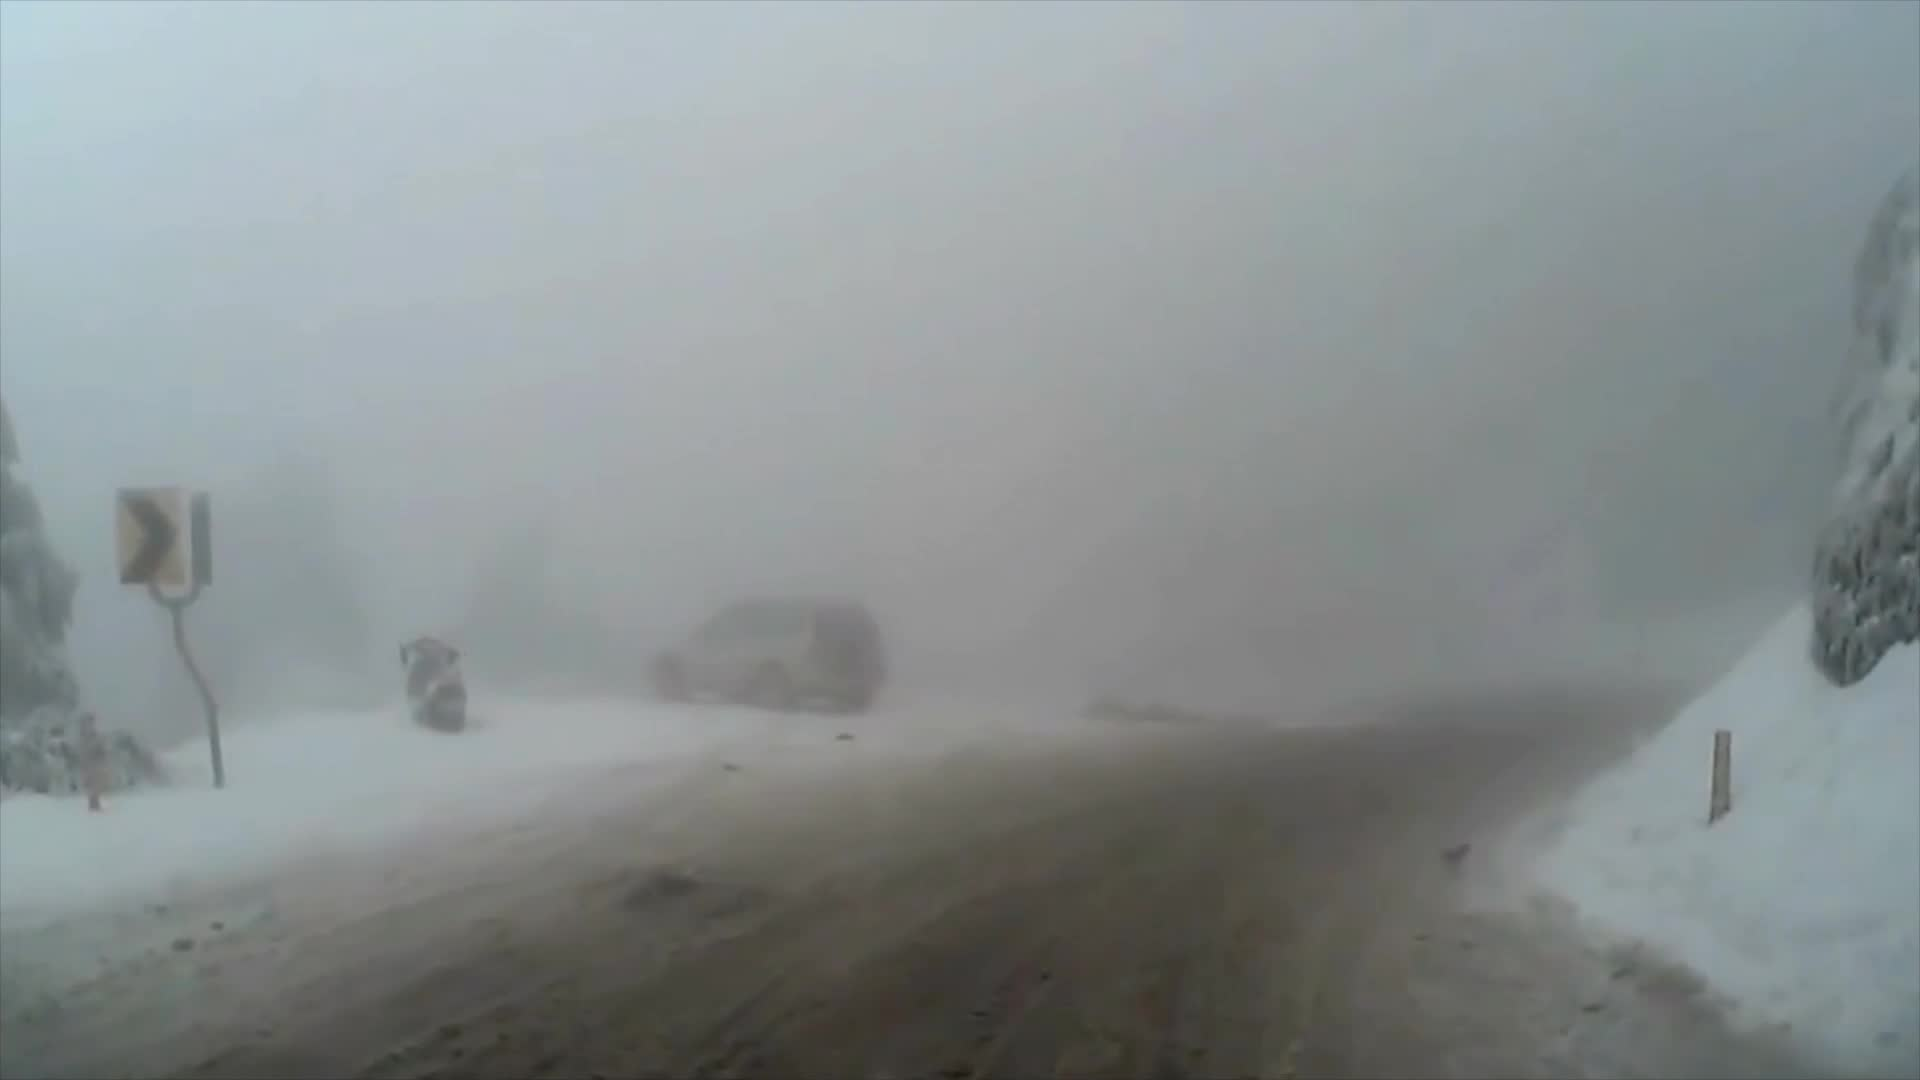vehicle: (644, 597, 881, 716)
